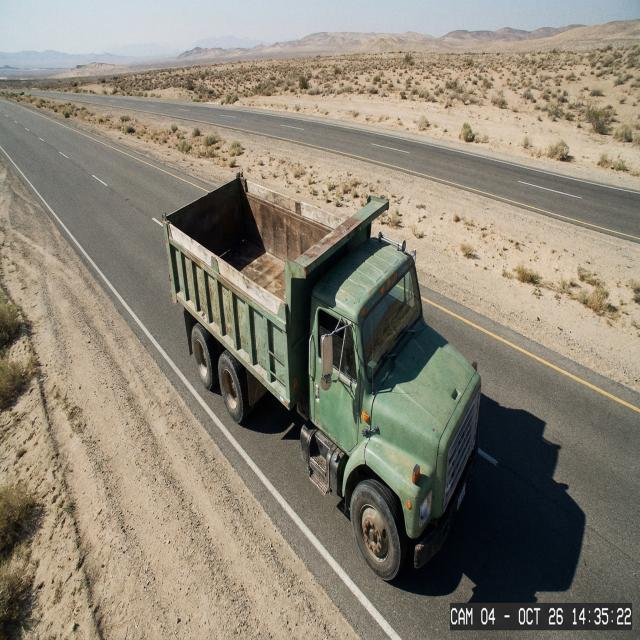Box: (163, 173, 387, 305)
Truck: (153, 156, 487, 582)
